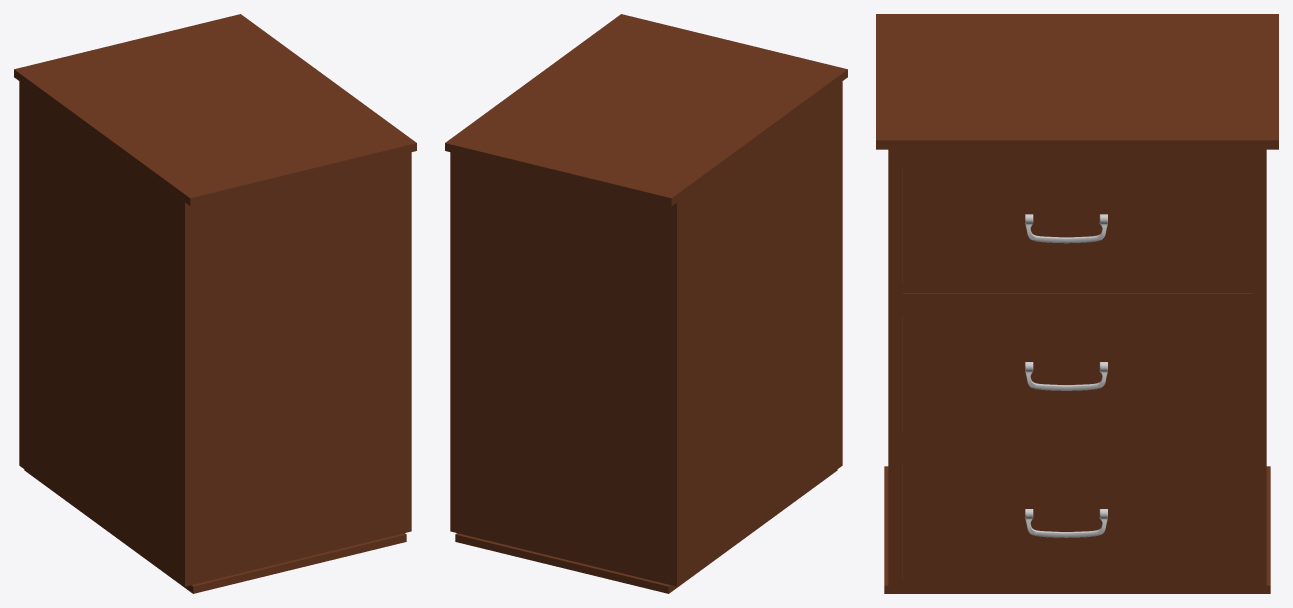
File: hsrcbntccfr.blend.fbx
3 views of the same model, side by side, from view 1: azimuth 30°, elevation 25°; view 2: azimuth 150°, elevation 25°; view 3: azimuth 270°, elevation 25° (orthographic). The views are drawn at different scales.
Parts seen in each view (by area): view 1: Cube.025, Cube.017, Cube.024, Cube.026; view 2: Cube.025, Cube.017, Cube.024, Cube.026; view 3: Cube.024, Cube.021, Cube.015, Cube.014, Cube.025, Cube.026, Cylinder.014, Cylinder.008, Cylinder.011.
Part boxes in pixels (<box>): Cube.025: <box>19,79,411,586</box>; Cube.017: <box>25,84,178,581</box>; Cube.024: <box>14,14,416,206</box>; Cube.026: <box>24,469,406,593</box>; Cube.025: <box>450,79,842,586</box>; Cube.017: <box>683,84,836,581</box>; Cube.024: <box>445,14,847,206</box>; Cube.026: <box>455,469,837,593</box>; Cube.024: <box>876,14,1278,149</box>; Cube.021: <box>903,293,1252,441</box>; Cube.015: <box>903,441,1252,587</box>; Cube.014: <box>903,149,1252,293</box>; Cube.025: <box>888,147,1266,588</box>; Cube.026: <box>884,466,1270,593</box>; Cylinder.014: <box>1025,362,1107,390</box>; Cylinder.008: <box>1025,214,1107,243</box>; Cylinder.011: <box>1025,509,1107,537</box>.
Size of the model in its own units: 385 by 641 by 512.
